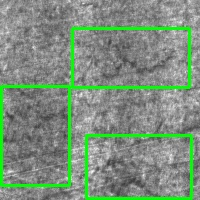crazing: (72, 28, 189, 87), (1, 86, 69, 185), (86, 135, 191, 198)
